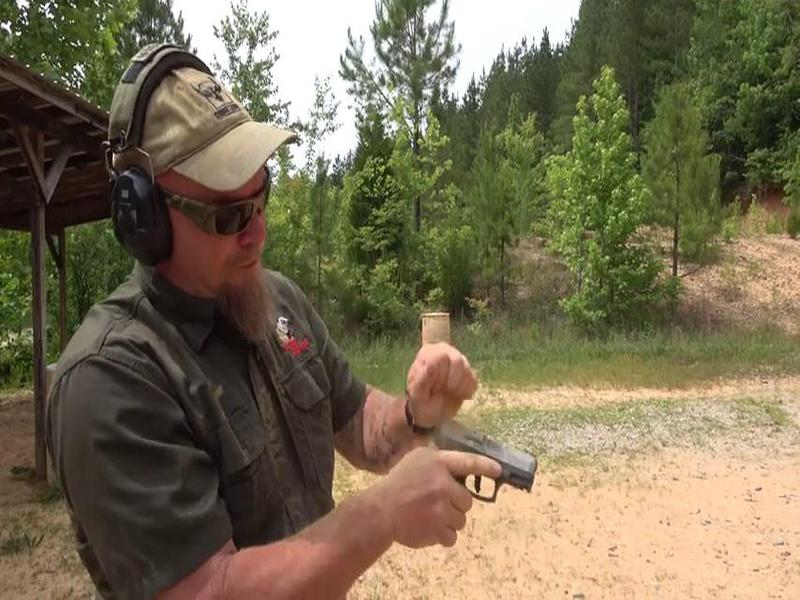Pistola: (369, 408, 546, 529)
